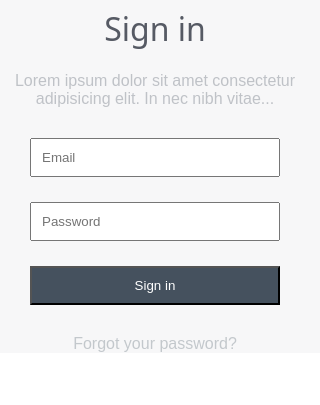
LoginPage › Login Page › It should contain validations › Shows error when email or password is empty
The image size is (320, 405).
In the password field with id "input-password": (155, 221) [30,202,280,241], type "password123"
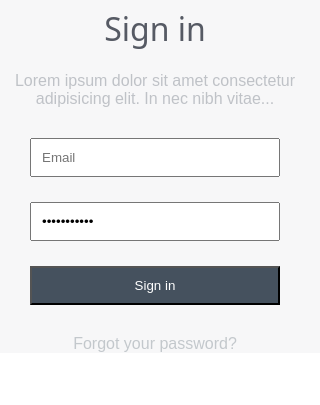
Click the button with id "btn-sign-in": (155, 285) [30,266,280,305]
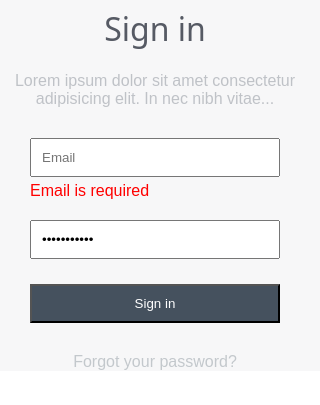
Check: the text with id "email-error" reads "Email is required", box [30,182,149,199]
In the field with id "input-email": (155, 157) [30,138,280,177], type "Jhon"
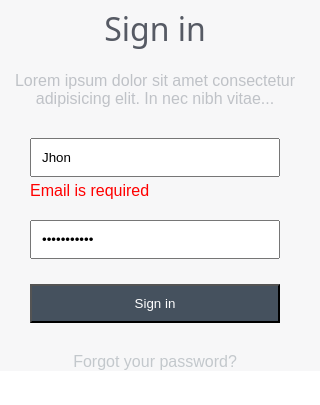
Clear the password field with id "input-password": (155, 239) [30,220,280,259]
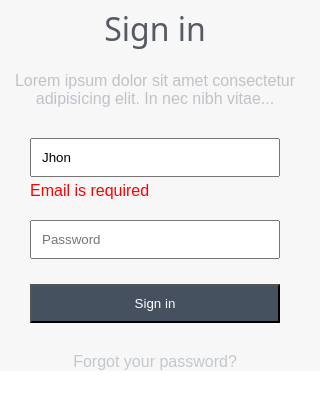
Click the button with id "btn-sign-in": (155, 303) [30,284,280,323]
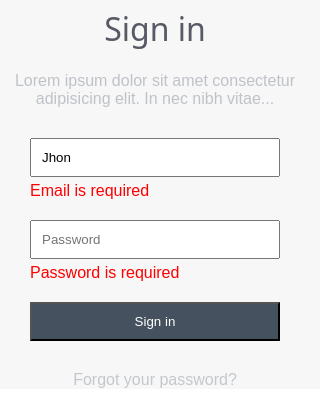
Check: the text "Password is required" is shown, box [30,264,179,281]
